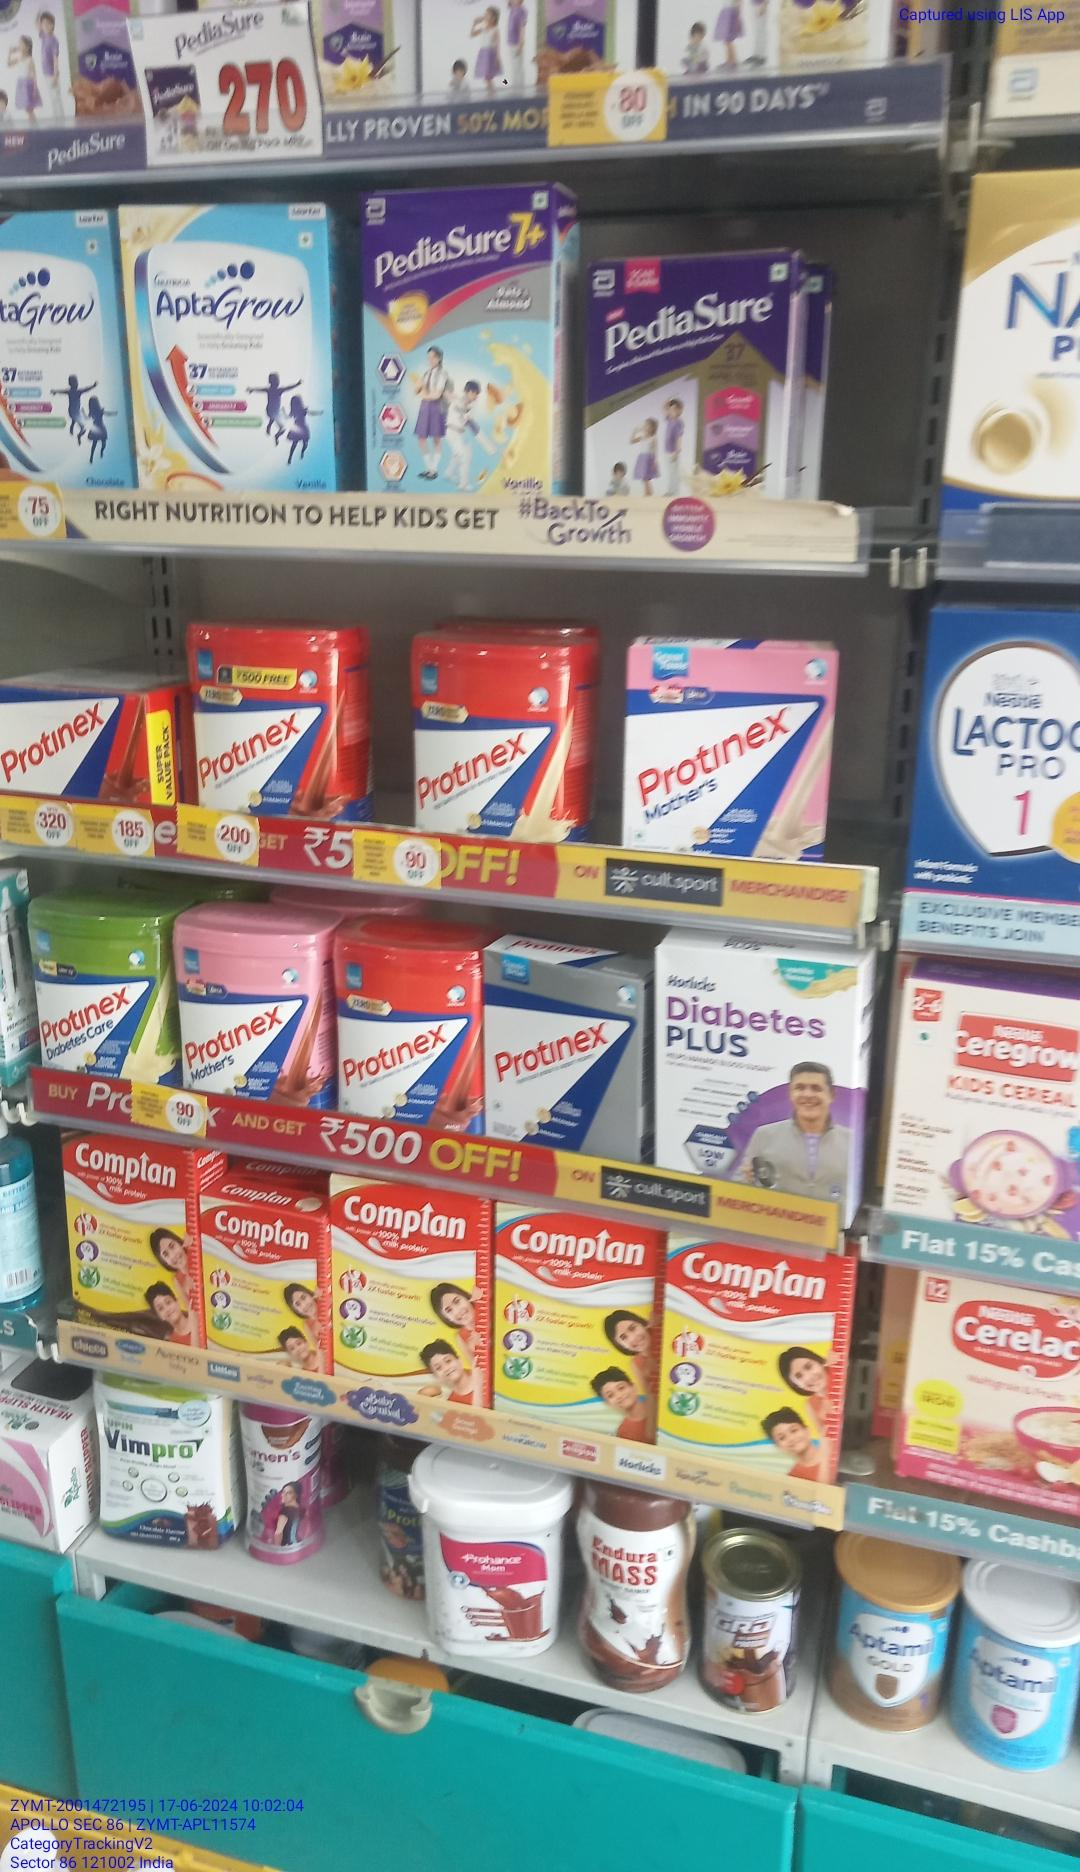COMPLAN_KESAR_BADAM_200_GMS_PACK: (202, 1198, 323, 1365)
PROTINEX_CHOCOLATE_400_G_JAR: (339, 923, 486, 1130), (194, 622, 339, 813)
PROTINEX_VANILLA_400_G_JAR: (413, 634, 571, 837)
